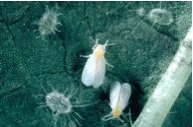whitefly: (81, 39, 113, 88), (105, 81, 131, 122)
